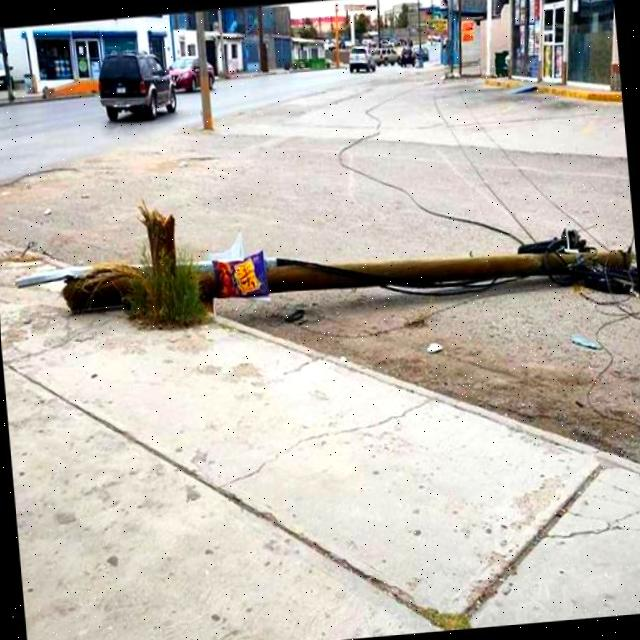Broken Pole: (60, 246, 633, 310)
